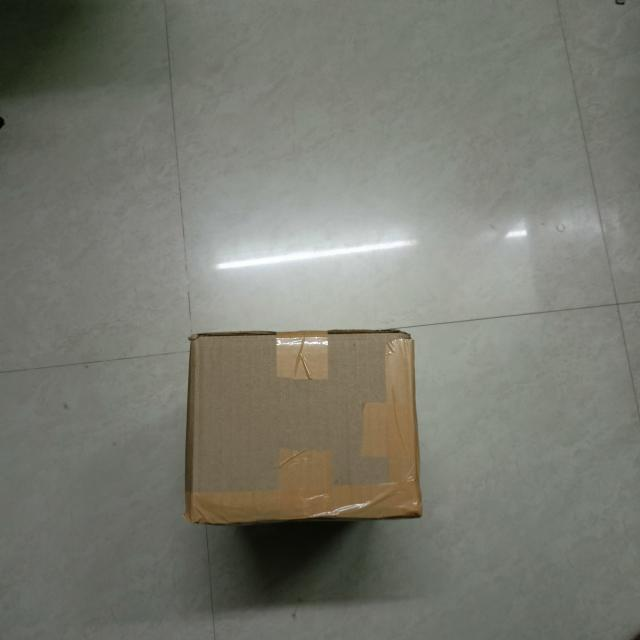box: (188, 332, 416, 519)
